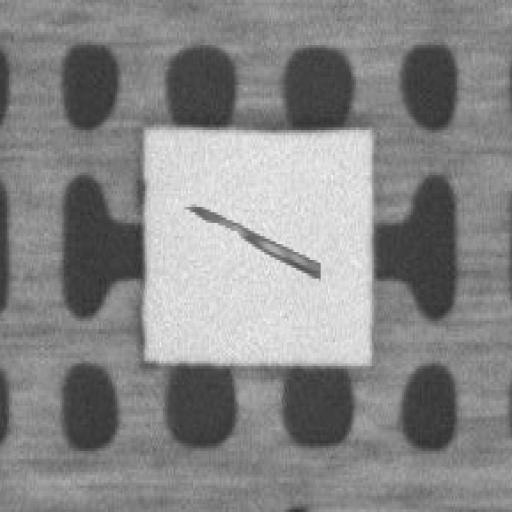DIE_INK: (268, 131, 477, 188)
